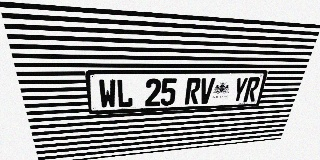2: (145, 78, 161, 107)
5: (160, 78, 177, 106)
L: (116, 79, 133, 108)
R: (184, 78, 201, 105), (243, 77, 261, 102)
V: (198, 78, 215, 104)
W: (98, 79, 117, 109)
Y: (231, 77, 249, 102)
